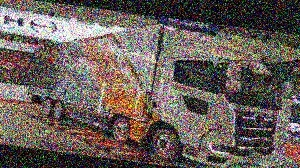truck: (20, 7, 290, 168)
